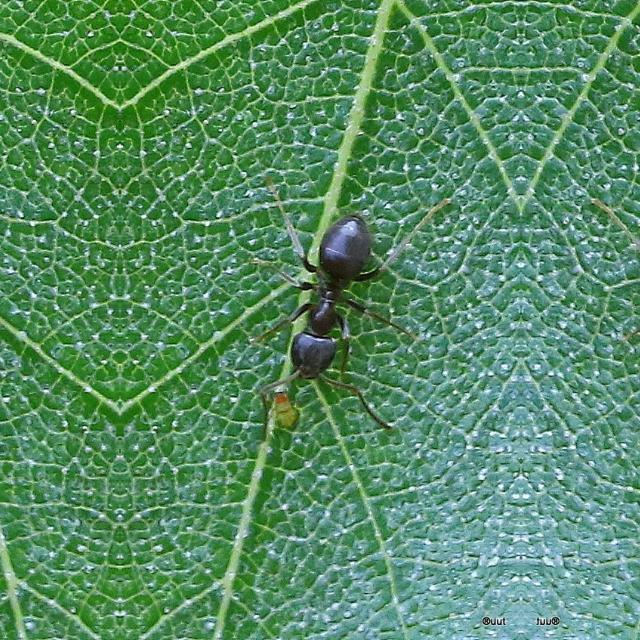Lasius: (239, 162, 413, 408)
